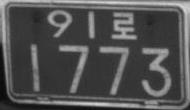1: (22, 44, 50, 91), (80, 10, 105, 38)
3: (140, 46, 172, 96)
7: (98, 45, 130, 96), (58, 44, 90, 93)
9: (46, 9, 73, 37)
로: (111, 10, 137, 40)
